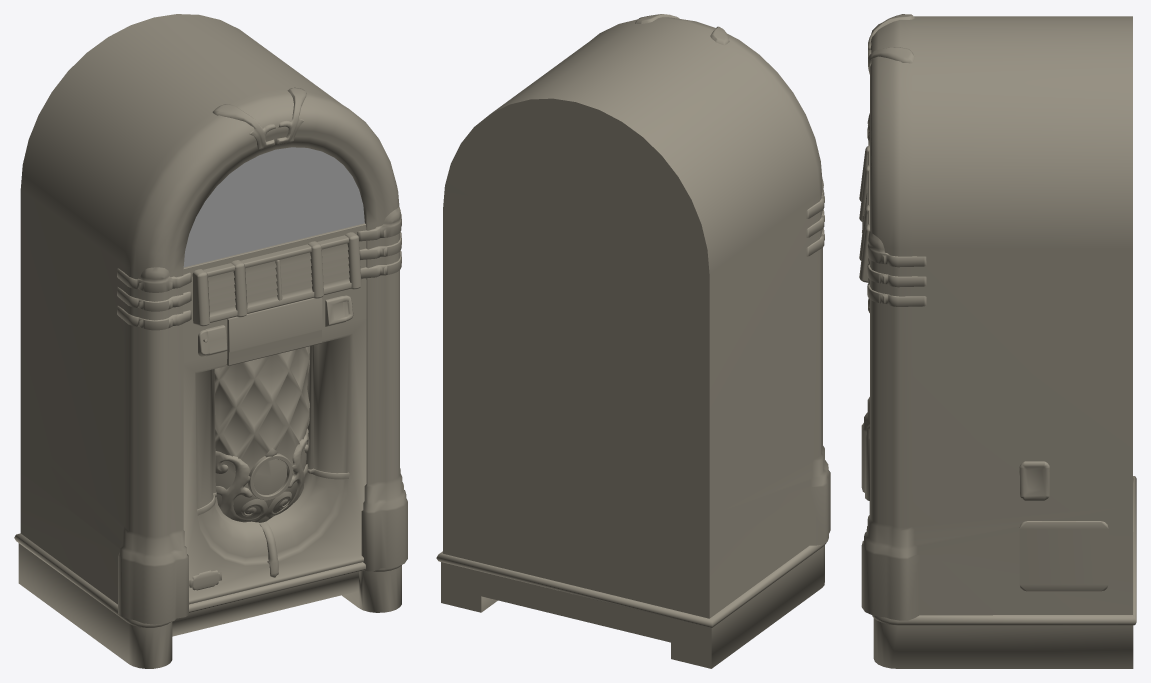
The model's file is Classic_Rockola.fbx.
The picture shows the model from 3 angles, left to right: view 1: azimuth 30°, elevation 25°; view 2: azimuth 150°, elevation 25°; view 3: azimuth 270°, elevation 25°; orthographic projection. The views are drawn at different scales.
Parts seen in each view (by area): view 1: ClassicRockola_Body, ClassicRockola_Glass; view 2: ClassicRockola_Body; view 3: ClassicRockola_Body.
Boxes of the visible parts, left/top/right/bottom form: ClassicRockola_Body: left=14, top=14, right=407, bottom=668; ClassicRockola_Glass: left=183, top=147, right=364, bottom=267; ClassicRockola_Body: left=436, top=14, right=830, bottom=668; ClassicRockola_Body: left=859, top=14, right=1136, bottom=668.
Size of the model in its own units: 1.04 by 1.87 by 0.826.
